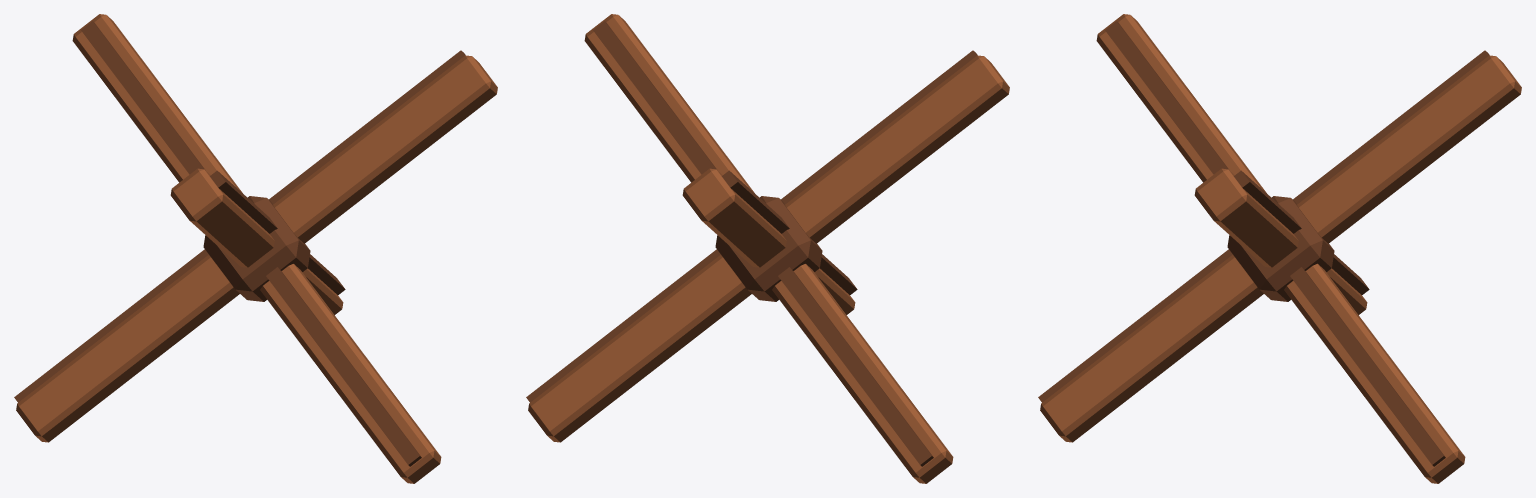
File: czech_hedgehog.glb
3 renders of one model, left to right at view 1: azimuth 30°, elevation 25°; view 2: azimuth 150°, elevation 25°; view 3: azimuth 270°, elevation 25°, orthographic.
Parts seen in each view (by area): view 1: LOD0; view 2: LOD0; view 3: LOD0.
Part boxes in pixels (left/top/right/bottom): LOD0: left=14, top=14, right=497, bottom=483; LOD0: left=526, top=14, right=1009, bottom=483; LOD0: left=1038, top=14, right=1521, bottom=483.
Size of what is drawn, in the model's own units: 1.92 by 1.48 by 1.92.
Materials: 1 (1 with a texture image).
